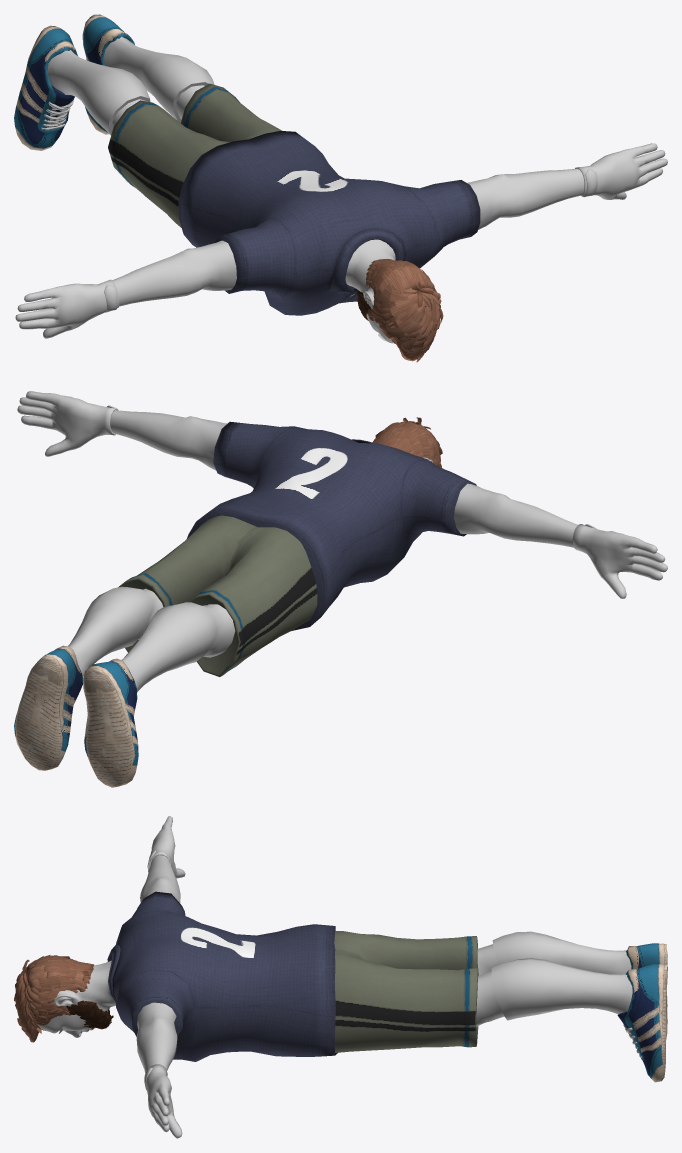
Rendered from football-player2.obj.
3 renders of one model, top to bottom at view 1: azimuth 30°, elevation 25°; view 2: azimuth 150°, elevation 25°; view 3: azimuth 270°, elevation 25°, orthographic. The views are drawn at different scales.
Visible parts, largest first — view 1: Tops, Body, Bottoms, Socks, Gloves, Shoes, Hair; view 2: Tops, Bottoms, Shoes, Body, Socks, Gloves, Hair; view 3: Tops, Bottoms, Socks, Body, Shoes, Hair, Gloves, Beards.
Part boxes in pixels (left/top/right/bottom): Tops: left=178, top=131, right=480, bottom=315; Body: left=112, top=85, right=584, bottom=343; Bottoms: left=108, top=83, right=282, bottom=227; Socks: left=47, top=36, right=214, bottom=135; Gloves: left=15, top=143, right=667, bottom=338; Shoes: left=14, top=14, right=134, bottom=150; Hair: left=366, top=259, right=443, bottom=362; Tops: left=187, top=421, right=476, bottom=630; Bottoms: left=118, top=515, right=317, bottom=676; Shoes: left=14, top=645, right=138, bottom=787; Body: left=110, top=410, right=577, bottom=657; Socks: left=68, top=586, right=217, bottom=692; Gloves: left=17, top=391, right=667, bottom=598; Hair: left=372, top=417, right=442, bottom=468; Tops: left=107, top=891, right=337, bottom=1061; Bottoms: left=334, top=931, right=478, bottom=1052; Socks: left=491, top=931, right=632, bottom=1020; Body: left=36, top=855, right=504, bottom=1072; Shoes: left=617, top=943, right=667, bottom=1082; Hair: left=14, top=955, right=93, bottom=1042; Gloves: left=144, top=816, right=185, bottom=1138; Beards: left=64, top=1000, right=113, bottom=1029.
Size of the model in its own units: 1.94 by 0.4066 by 1.83.
